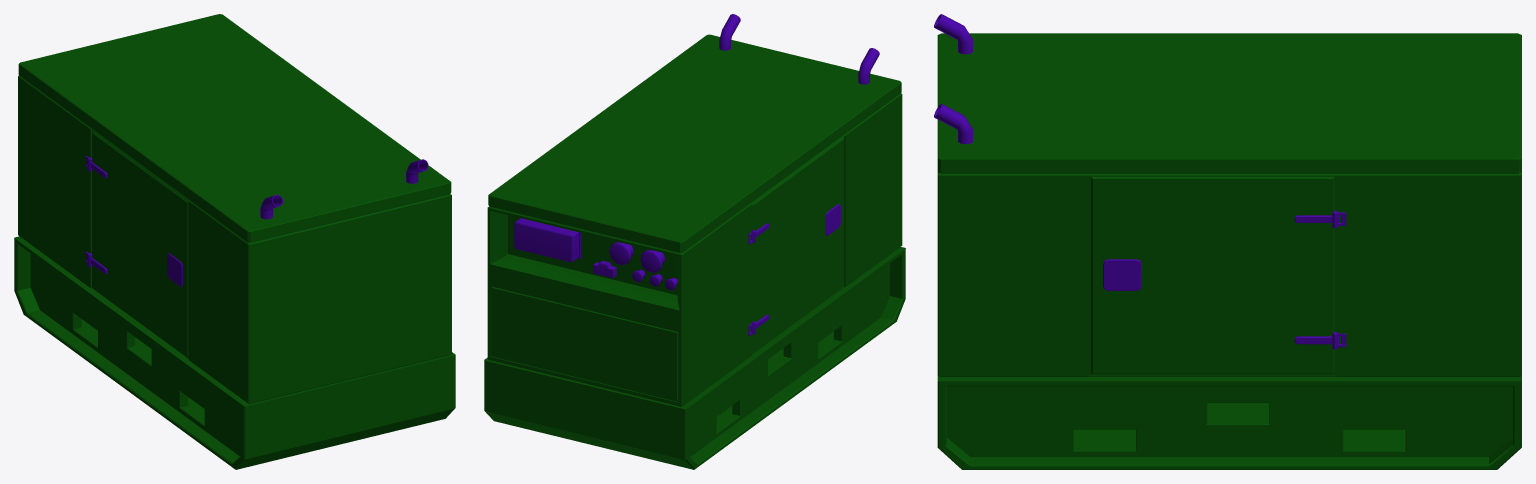
The model's file is S1_Grp_Electrogene.fbx.
3 views of the same model, side by side, from view 1: azimuth 30°, elevation 25°; view 2: azimuth 150°, elevation 25°; view 3: azimuth 270°, elevation 25° (orthographic). The views are drawn at different scales.
Parts seen in each view (by area): view 1: polySurface5, pCube35; view 2: polySurface5, pCube35; view 3: polySurface5, pCube35.
Boxes of the visible parts, x1,y1,x2,y2 form: polySurface5: [14, 14, 455, 469]; pCube35: [85, 156, 428, 286]; polySurface5: [484, 34, 905, 469]; pCube35: [514, 14, 879, 335]; polySurface5: [937, 33, 1521, 469]; pCube35: [934, 14, 1346, 349].
Size of the model in its own units: 49.99 by 61.62 by 95.06.
